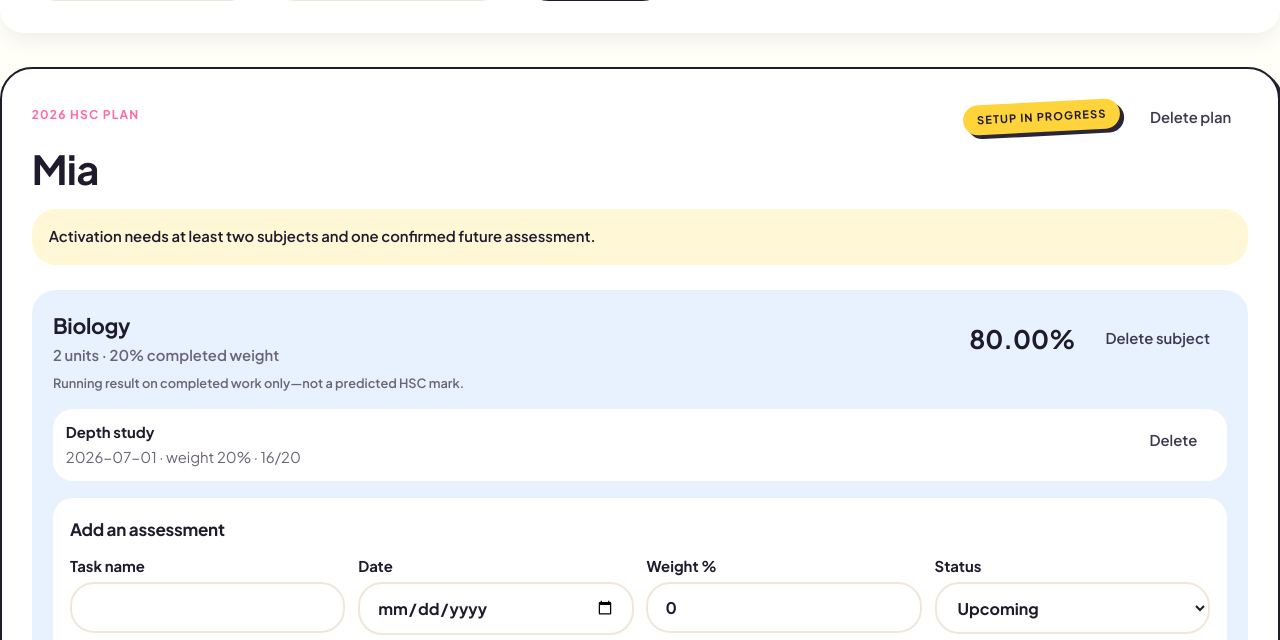
it: HscPlannerPage › deletion › does not delete on the first click and warns what else goes with it
(page scrolled)
Expected: the text "Depth study" is shown, [66,423,155,441]
Click the button "Delete subject".
click(1158, 339)  # box [1088,320,1227,358]
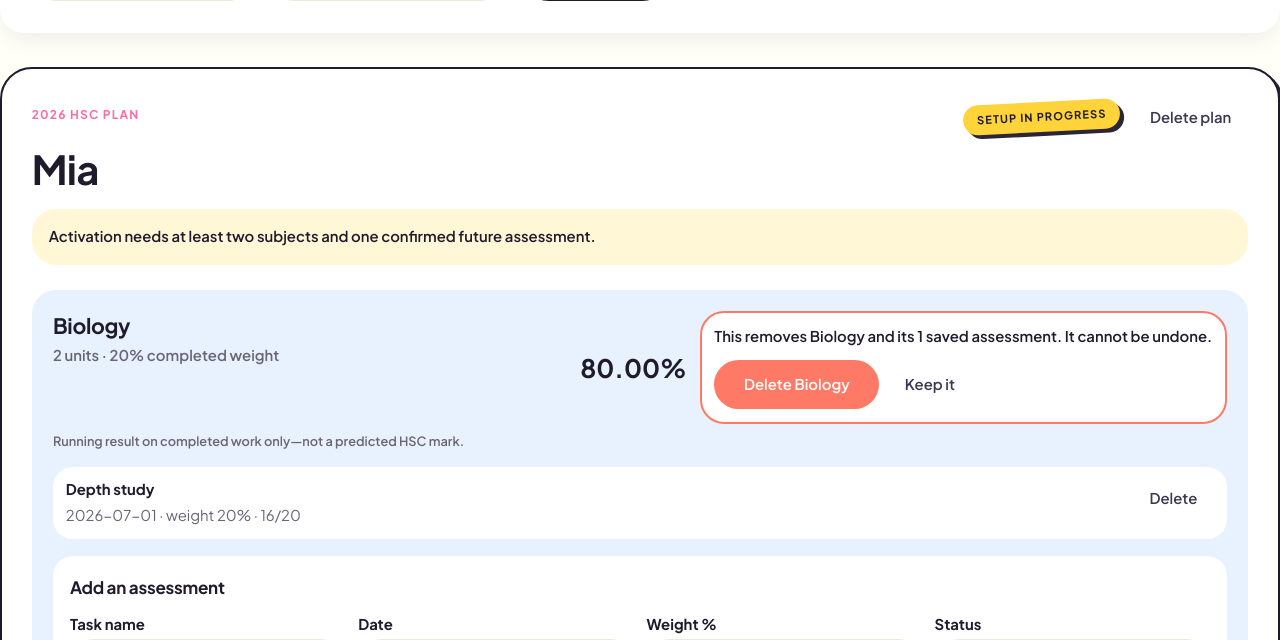
Now the text "removes Biology and its 1 saved assessment" is shown, box [714,327,1212,345]
